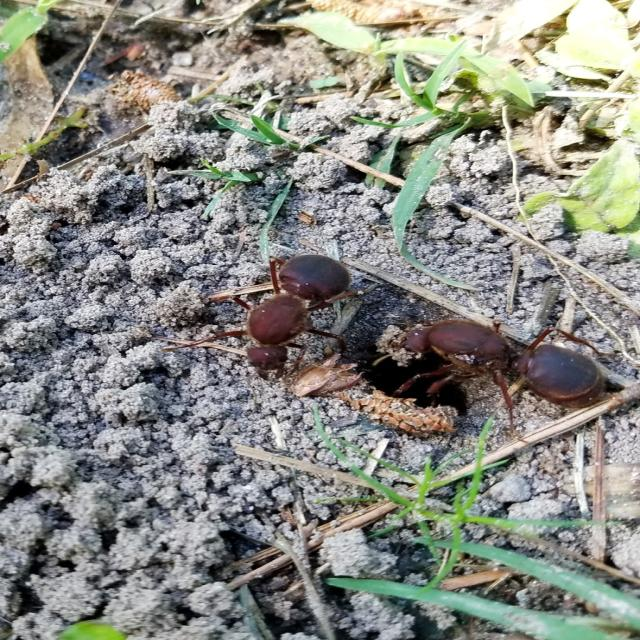Alive-Female-Dealate: (390, 318, 620, 445), (160, 254, 366, 382)
